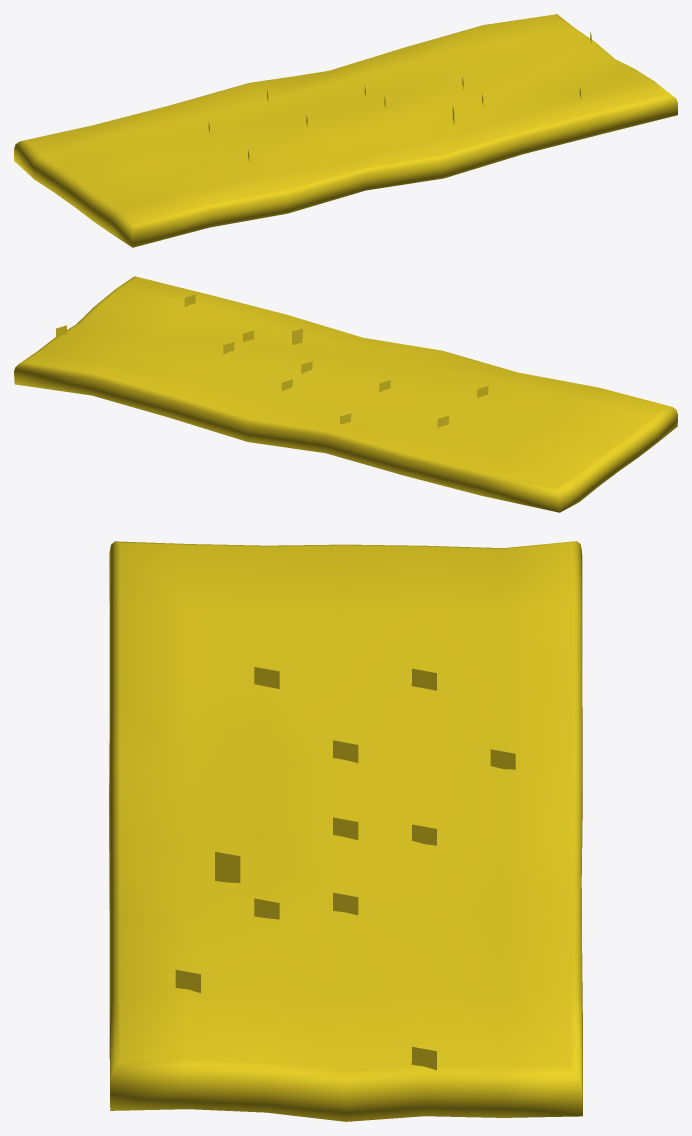
Rendered from farm_land.glb.
The picture shows the model from 3 angles, top to bottom: view 1: azimuth 30°, elevation 25°; view 2: azimuth 150°, elevation 25°; view 3: azimuth 270°, elevation 25°; orthographic projection. The views are drawn at different scales.
Visible parts, largest first — view 1: FarmLand; view 2: FarmLand; view 3: FarmLand.
Part boxes in pixels (x1=…): FarmLand: x1=14, y1=14, x2=677, y2=247; FarmLand: x1=14, y1=276, x2=677, y2=512; FarmLand: x1=109, y1=541, x2=582, y2=1121.
Bounding box in the file's own units: 21.28 × 1.46 × 8.
